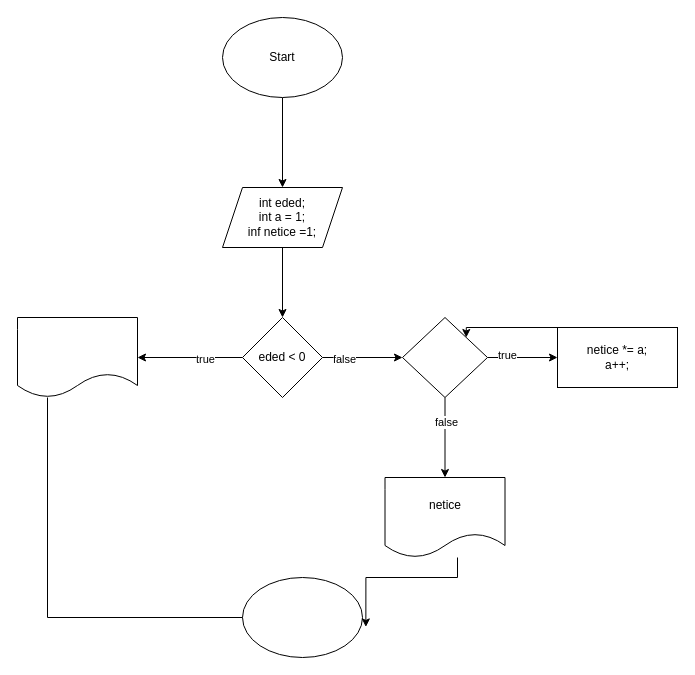
This 695x675 diagram has some shape labels left out. The centre of each missing label's shape, as x and y in pixels:
"a <= eded" goes at point (445, 357).
"Duzgun deyer daxil edin" goes at point (77, 357).
"End" goes at point (302, 617).
